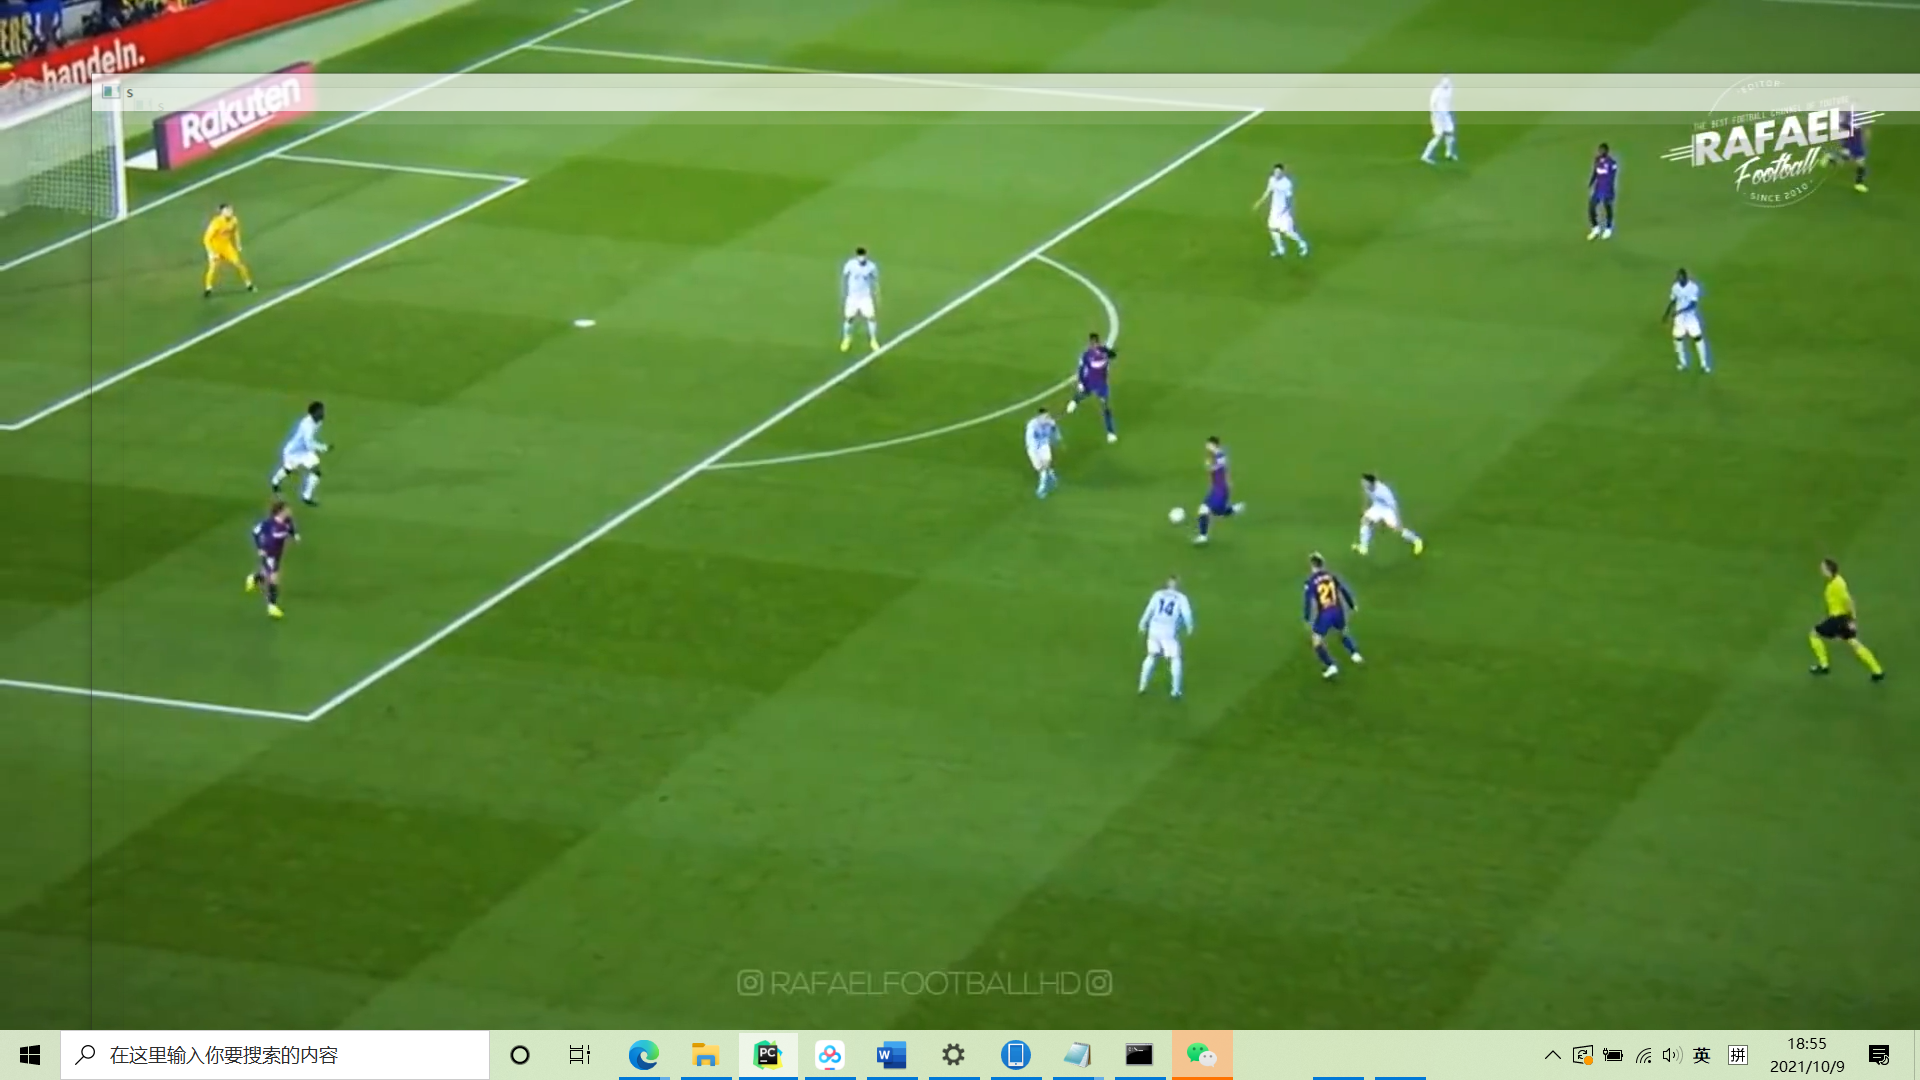ft: (1164, 502, 1188, 527)
